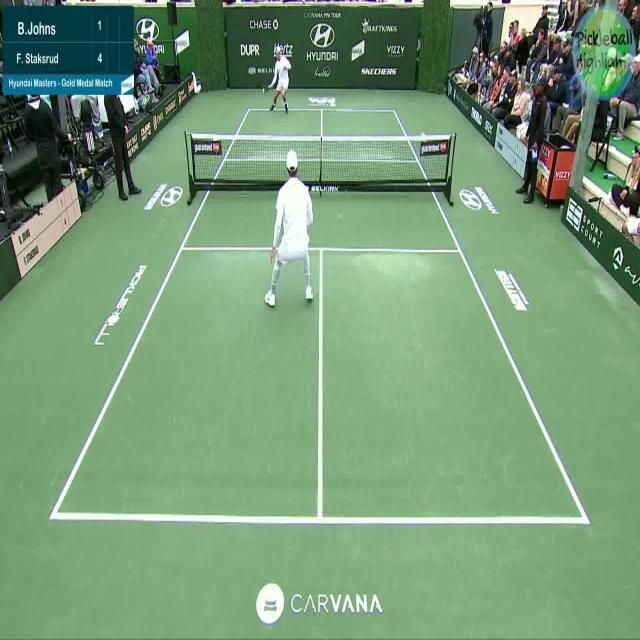Court: (51, 110, 586, 521)
ball: (260, 84, 266, 96)
